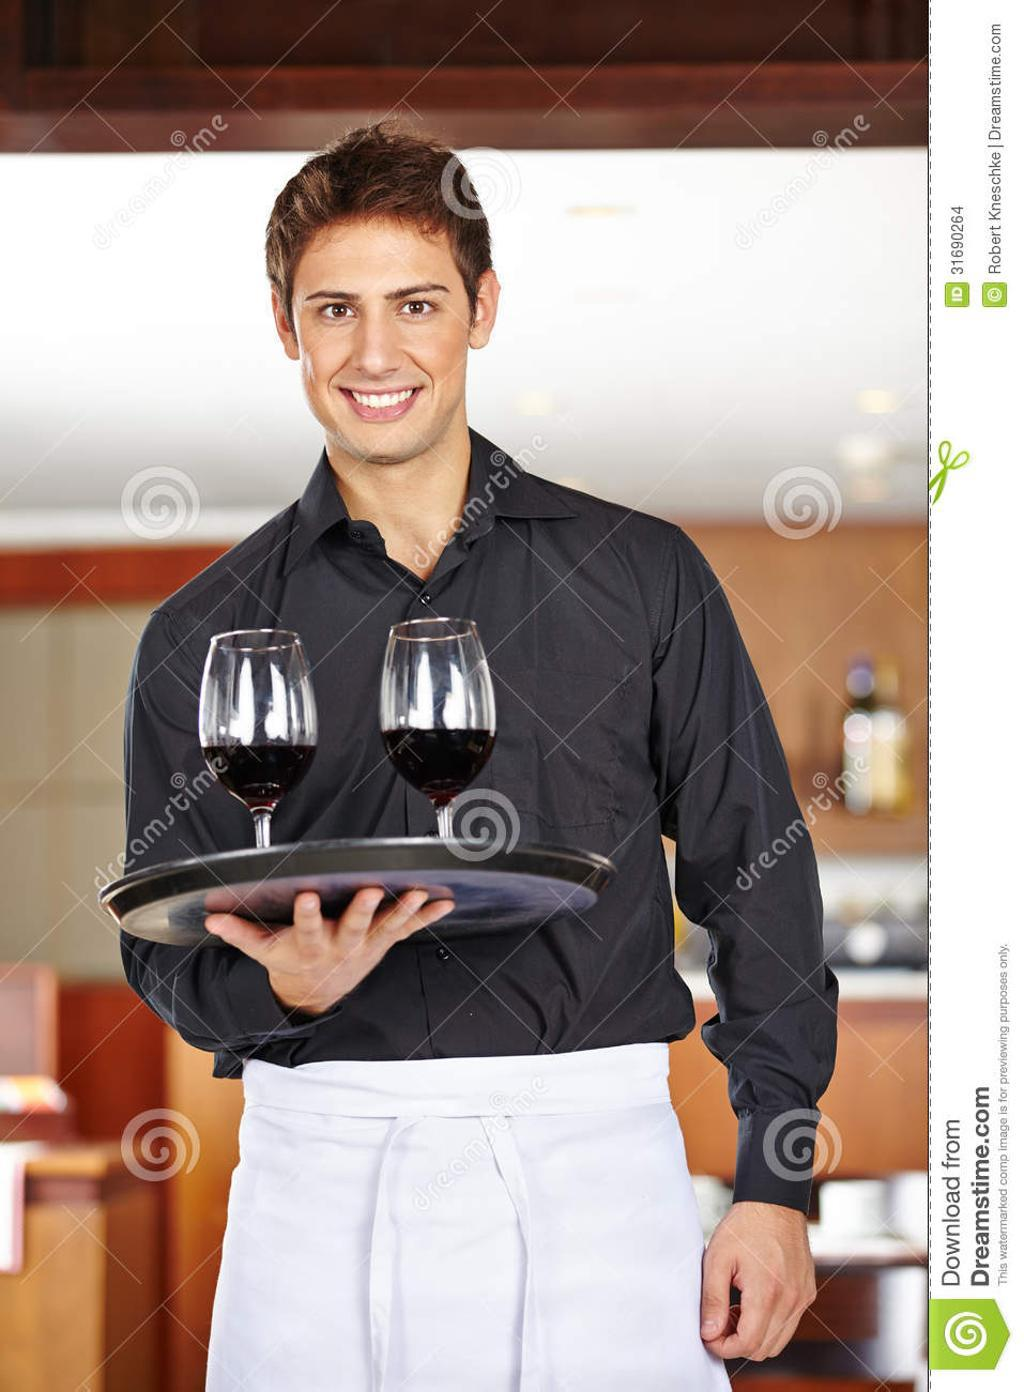face: (294, 218, 473, 457)
